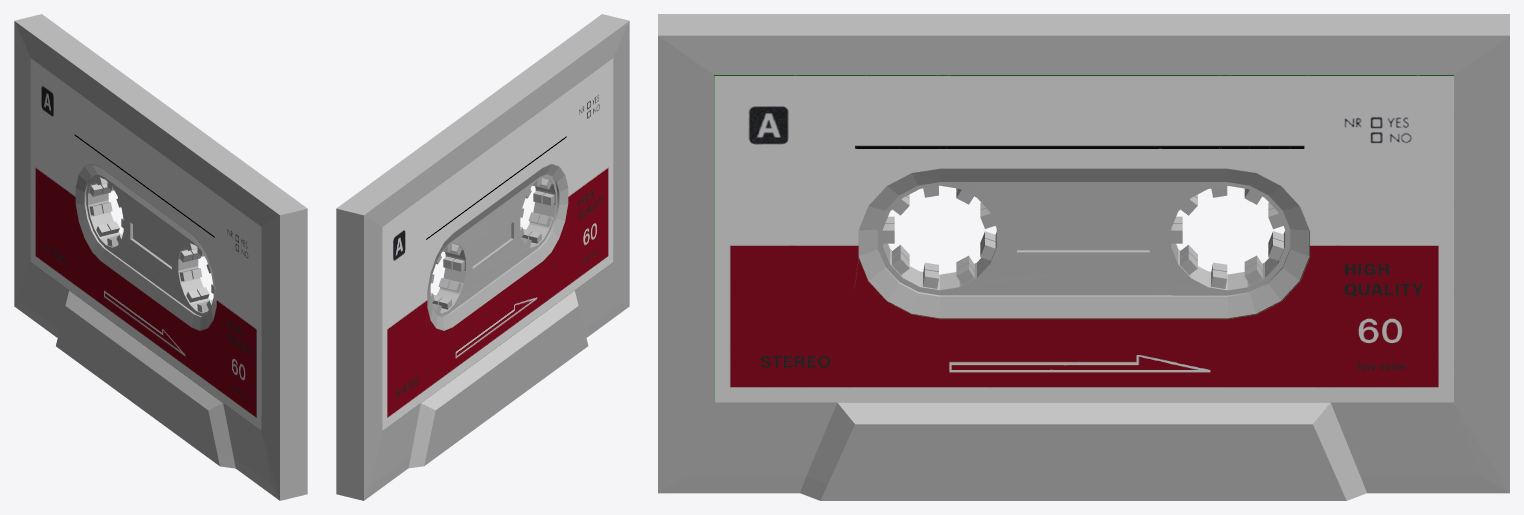
Rendered from Fita.FBX.
3 renders of one model, left to right at view 1: azimuth 30°, elevation 25°; view 2: azimuth 150°, elevation 25°; view 3: azimuth 270°, elevation 25°, orthographic. The views are drawn at different scales.
Visible parts, largest first — view 1: Object003, Object001, Object002; view 2: Object003, Object001, Object002; view 3: Object001, Object003, Object002.
Part boxes in pixels (x1,y1,x2,y2): Object003: (14, 14, 307, 500); Object001: (30, 58, 261, 430); Object002: (56, 290, 235, 468); Object003: (336, 14, 629, 500); Object001: (382, 58, 613, 430); Object002: (408, 290, 588, 468); Object001: (714, 75, 1453, 402); Object003: (658, 14, 1509, 493); Object002: (800, 402, 1366, 500).
Bounding box in the file's own units: 9.38 × 53.04 × 89.4.
